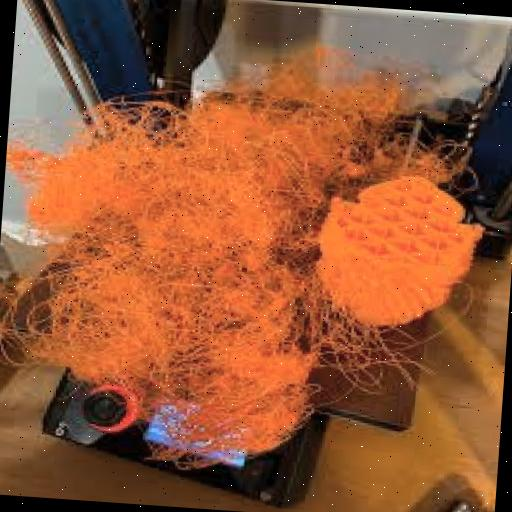spaghetti: (84, 42, 471, 458)
